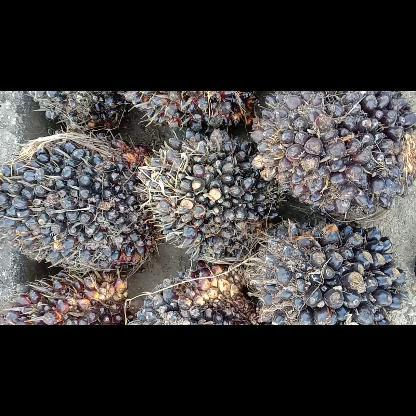TBS mentah: (0, 130, 162, 274), (247, 91, 414, 219), (132, 126, 284, 264), (235, 216, 408, 324), (125, 258, 269, 324), (0, 268, 134, 324), (119, 91, 260, 137)
